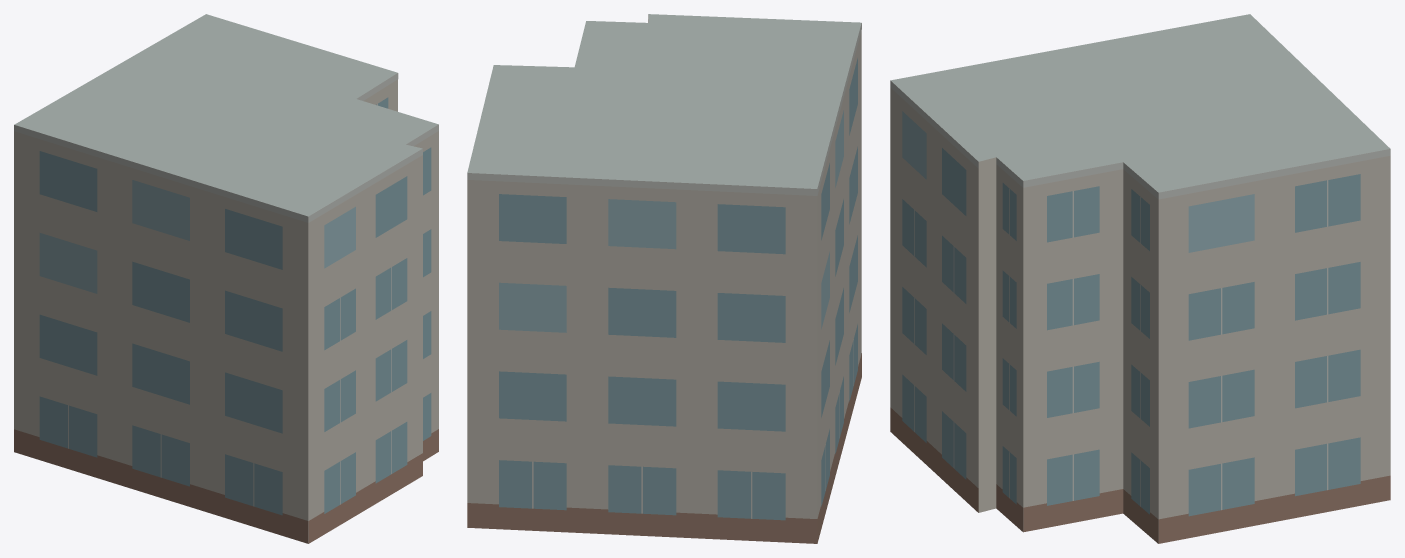
Rendered from survey-upis-32911272.glb.
3 renders of one model, left to right at view 1: azimuth 30°, elevation 25°; view 2: azimuth 150°, elevation 25°; view 3: azimuth 270°, elevation 25°, orthographic. The views are drawn at different scales.
Visible parts, largest first — view 1: survey-upis-32911272.tmp; view 2: survey-upis-32911272.tmp; view 3: survey-upis-32911272.tmp.
Part boxes in pixels (left/top/right/bottom): survey-upis-32911272.tmp: left=14, top=14, right=438, bottom=543; survey-upis-32911272.tmp: left=467, top=14, right=861, bottom=543; survey-upis-32911272.tmp: left=890, top=14, right=1390, bottom=543.
Size of the model in its own units: 13.65 by 12.5 by 16.15.
